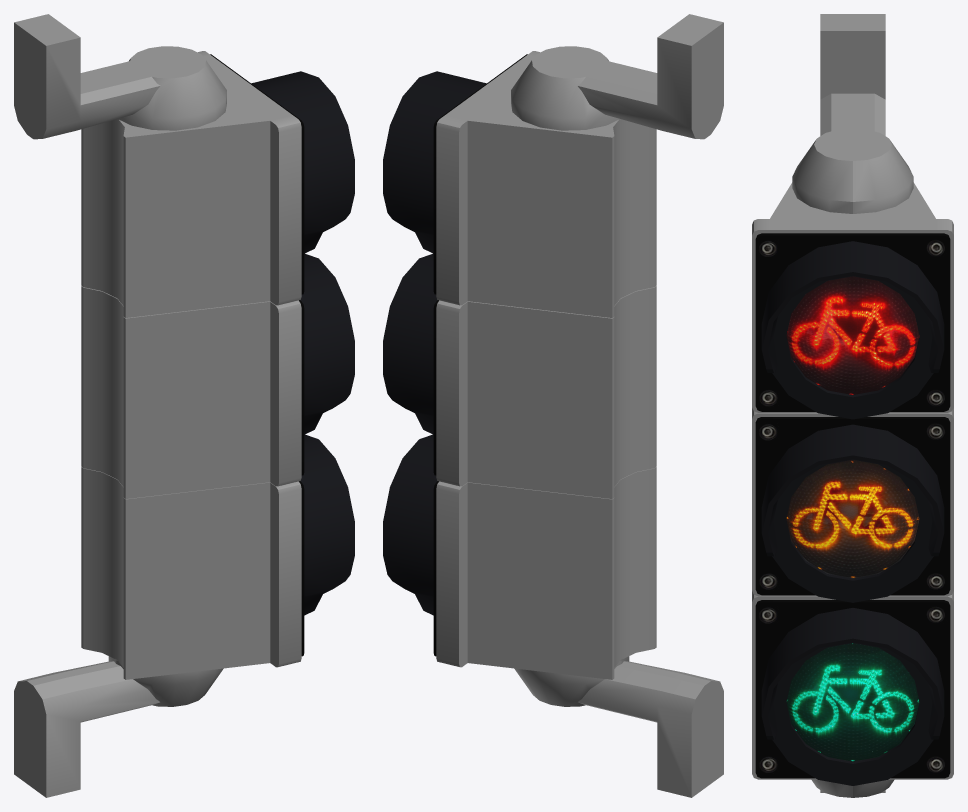
The model's file is Fahrradampel_rot_gelb_gruen_Mast.glb.
3 renders of one model, left to right at view 1: azimuth 30°, elevation 25°; view 2: azimuth 150°, elevation 25°; view 3: azimuth 270°, elevation 25°, orthographic.
Parts seen in each view (by area): view 1: Cube.003, Cube.001, Cube.004, Cube.006, Cube.005, BezierCurve.002, BezierCurve.003, BezierCurve.001; view 2: Cube.003, Cube.001, Cube.004, Cube.006, Cube.005, BezierCurve.002, BezierCurve.003, BezierCurve.001; view 3: BezierCurve.001, BezierCurve.002, BezierCurve.003, Cube.003, Cube.006, Cube.001, Cube.004, Cube.005.
Boxes of the visible parts, x1,y1,x2,y2 form: Cube.003: [81, 51, 304, 317]; Cube.001: [81, 286, 304, 498]; Cube.004: [81, 467, 304, 679]; Cube.006: [14, 14, 226, 139]; Cube.005: [14, 656, 223, 797]; BezierCurve.002: [251, 71, 354, 253]; BezierCurve.003: [300, 434, 354, 615]; BezierCurve.001: [300, 253, 354, 434]; Cube.003: [433, 51, 656, 317]; Cube.001: [433, 286, 656, 498]; Cube.004: [433, 467, 656, 679]; Cube.006: [511, 14, 723, 139]; Cube.005: [514, 656, 723, 797]; BezierCurve.002: [383, 71, 486, 253]; BezierCurve.003: [383, 434, 437, 615]; BezierCurve.001: [383, 253, 437, 434]; BezierCurve.001: [761, 424, 944, 602]; BezierCurve.002: [761, 241, 944, 419]; BezierCurve.003: [761, 608, 944, 785]; Cube.003: [752, 182, 953, 412]; Cube.006: [792, 14, 913, 213]; Cube.001: [752, 408, 953, 596]; Cube.004: [752, 591, 953, 779]; Cube.005: [811, 779, 894, 797].
Bounding box in the file's own units: 0.2512 × 0.6251 × 0.15.
6 materials, 6 textured.
